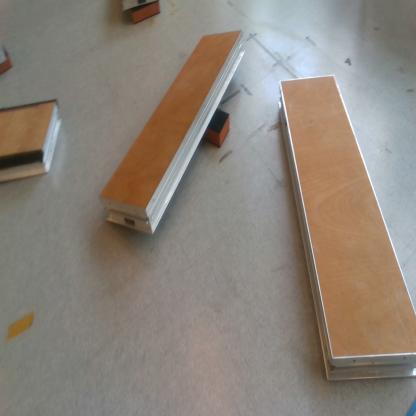Stairs: (277, 71, 416, 384), (100, 30, 246, 233), (1, 102, 64, 188)
